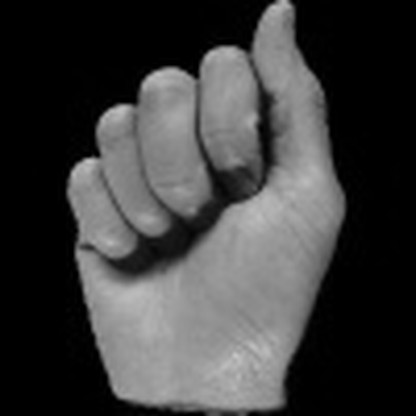a: (42, 2, 361, 414)
